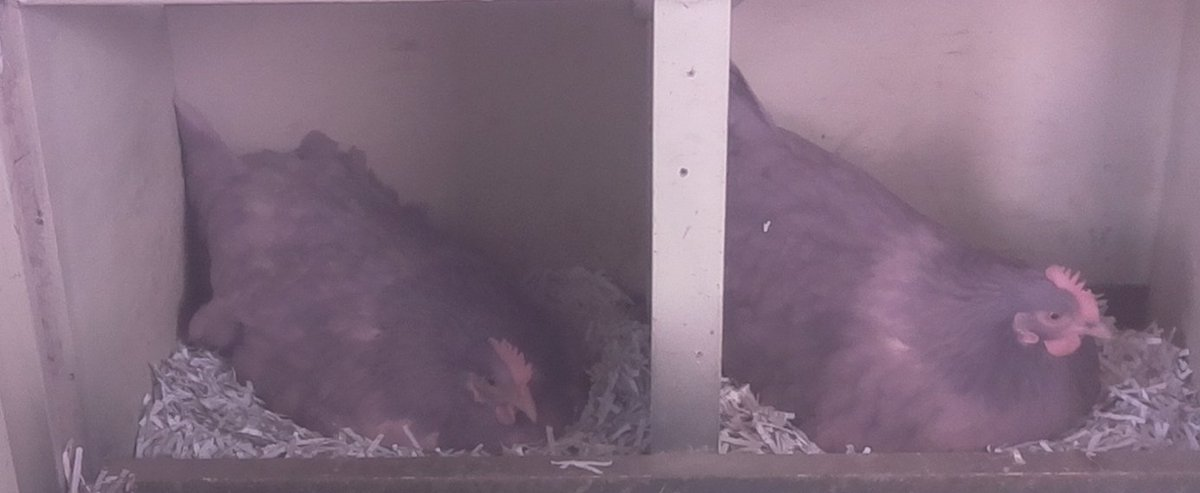hen: (174, 143, 590, 449), (730, 151, 1117, 443)
